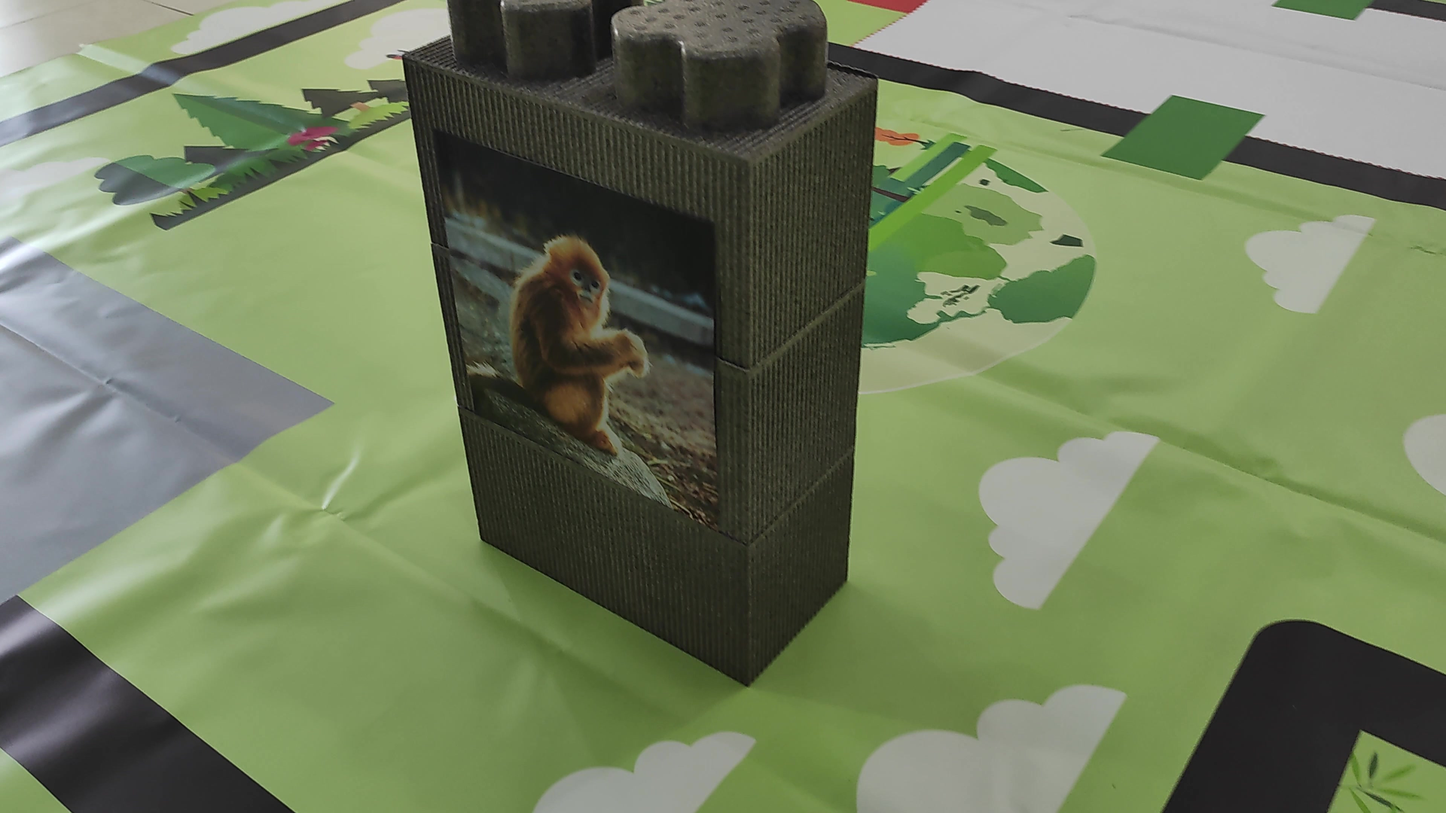monkey: (461, 207, 729, 464)
